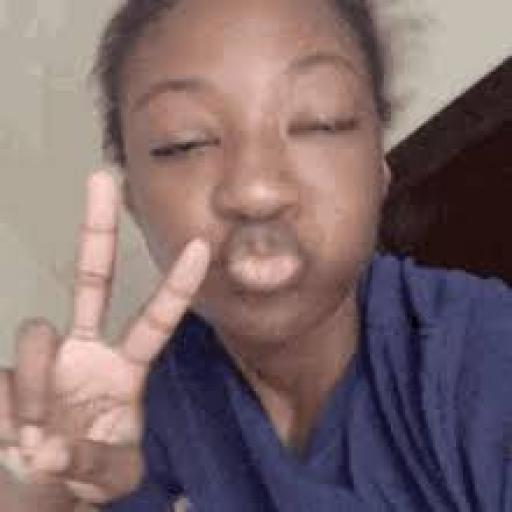Peace: (0, 125, 209, 512)
